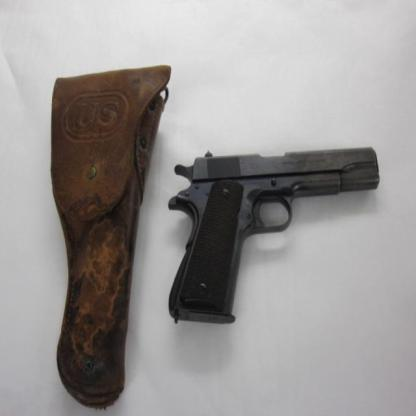weapon: (166, 146, 381, 326)
